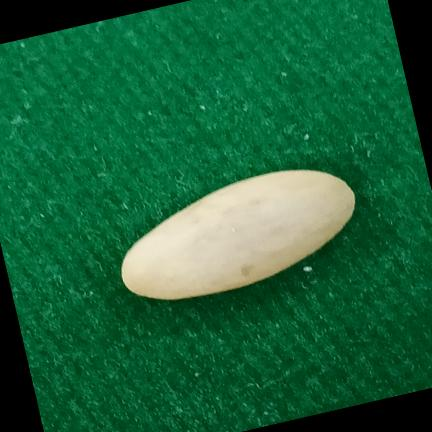parchment: (122, 170, 356, 300)
